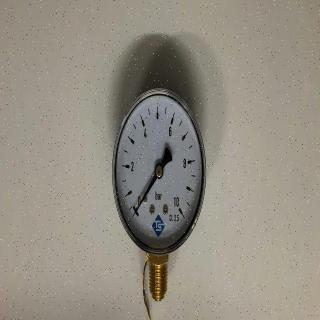gauge: (111, 74, 208, 266), (127, 199, 145, 226), (176, 205, 191, 230), (153, 166, 163, 178), (129, 210, 138, 220)
